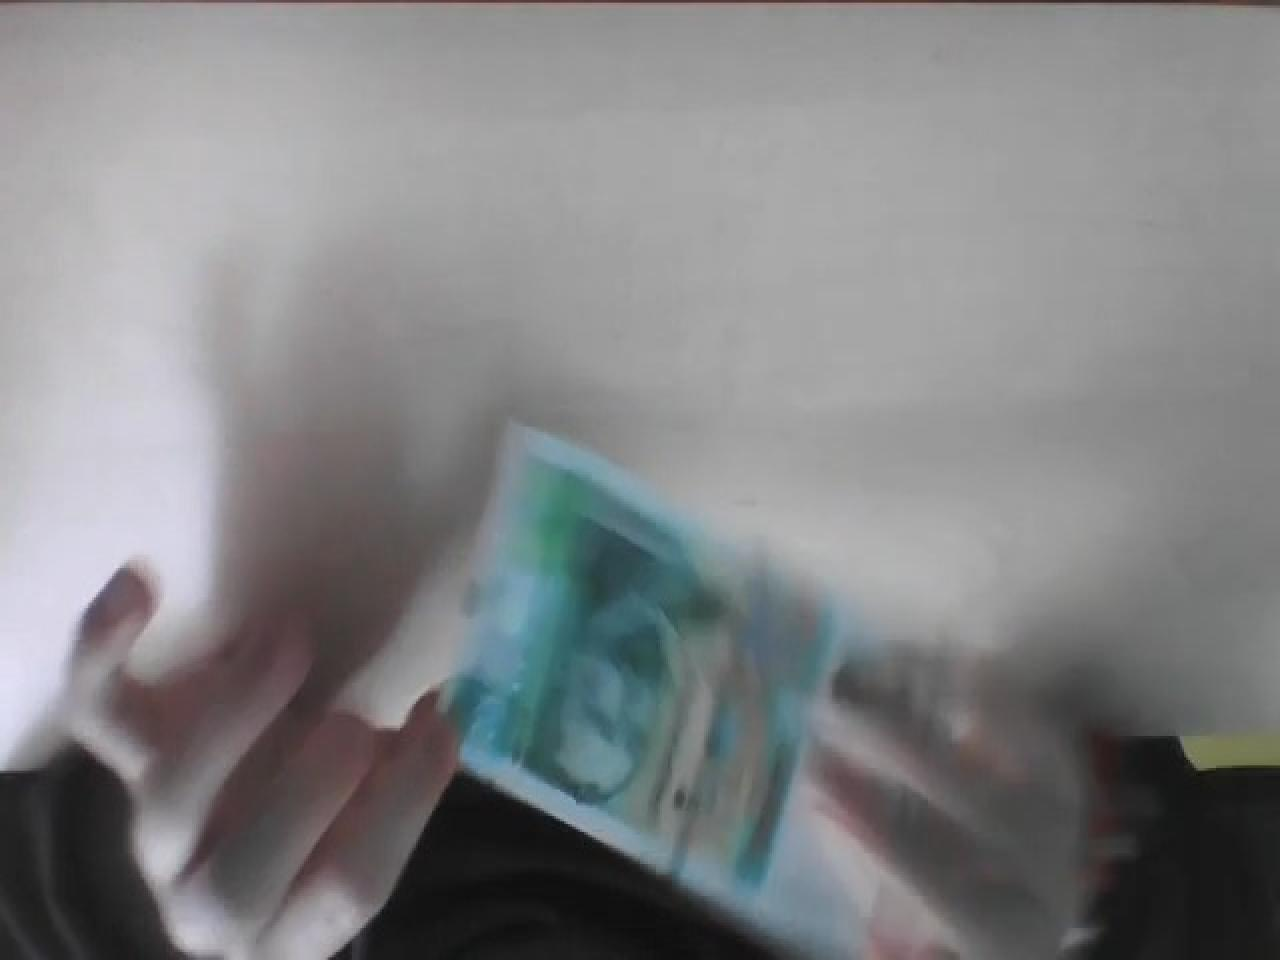100leva: (434, 425, 844, 907)
